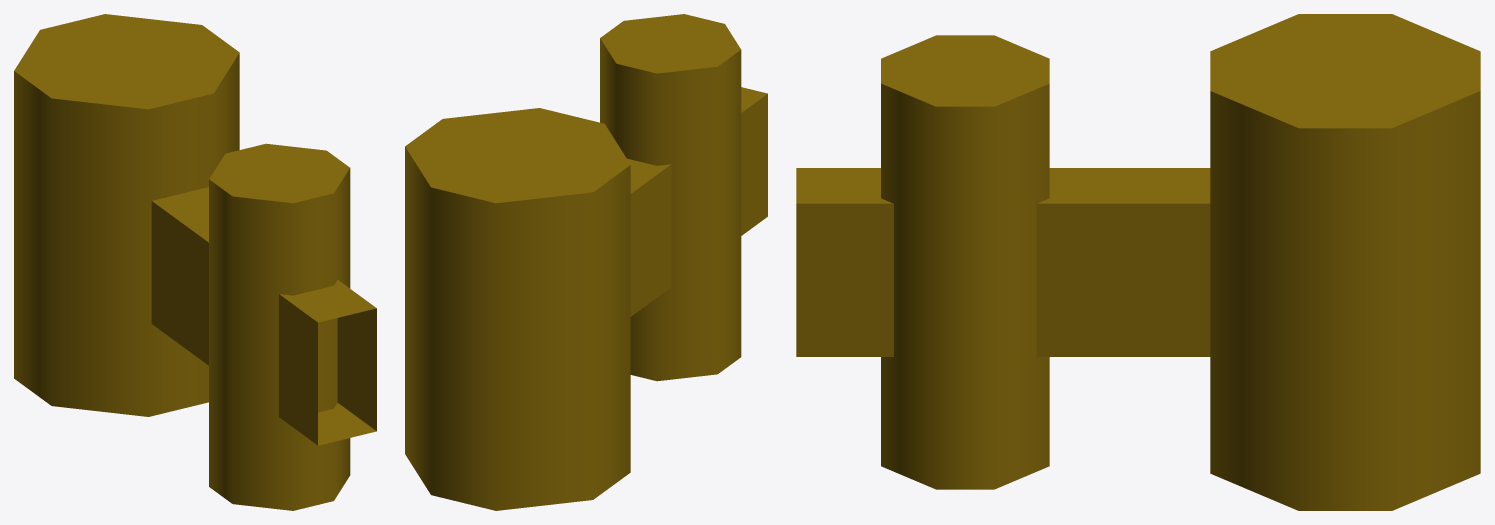
File: pole_fence_01_L_end.glb
3 views of the same model, side by side, from view 1: azimuth 30°, elevation 25°; view 2: azimuth 150°, elevation 25°; view 3: azimuth 270°, elevation 25° (orthographic). The views are drawn at different scales.
Parts seen in each view (by area): view 1: coppice_fence_end.001; view 2: coppice_fence_end.001; view 3: coppice_fence_end.001.
Part boxes in pixels (left/top/right/bottom): coppice_fence_end.001: left=14, top=14, right=376, bottom=510; coppice_fence_end.001: left=405, top=14, right=767, bottom=510; coppice_fence_end.001: left=796, top=14, right=1480, bottom=510.
Bounding box in the file's own units: 0.64 × 1 × 1.62.
